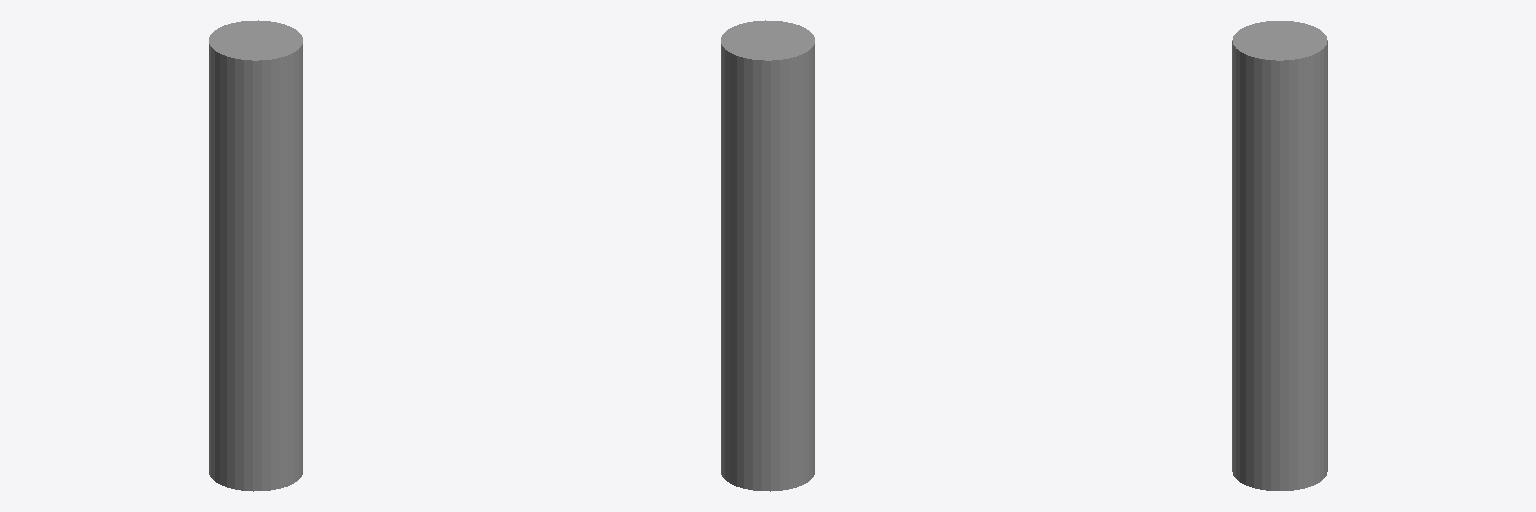
The robot description file, URDF, robot "cylinder":
<?xml version="1.0"?>
<robot name="cylinder">

  <material name="red">
    <color rgba="1.0 0.0 0.0 1.0"/>
  </material>
  <material name="grey">
    <color rgba="0.65 0.65 0.65 1.0"/>
    <texture filename="Wall_Albedo.jpg"/>
  </material>

  <link name="base_link">
    <collision>
      <geometry>
        <cylinder radius="0.5" length="5.0"/>
      </geometry>
    </collision>
    <inertial>
      <mass value="0.0002"/>
    	<inertia ixx="0.00016668" ixy="0.0" ixz="0.0" iyy="0.00016668" iyz="0.0" izz="0.00000002"/>
  	</inertial>
    <visual>
      <geometry>
        <cylinder radius="0.5" length="5.0"/>
      </geometry>
      <material name="grey"/>
    </visual>
  </link>

</robot>

--- Render facts (derived) ---
The picture shows the robot from 3 angles, left to right: view 1: azimuth 30°, elevation 25°; view 2: azimuth 150°, elevation 25°; view 3: azimuth 270°, elevation 25°; orthographic projection.
Robot: cylinder — 1 links, 0 joints (none); root link base_link; default pose: all joints at 0.
Visible links, largest first — view 1: base_link; view 2: base_link; view 3: base_link.
Boxes of the visible links, bbox=[...] form: base_link: bbox=[209, 20, 302, 491]; base_link: bbox=[721, 20, 814, 491]; base_link: bbox=[1232, 21, 1327, 490].
Size in the robot's own frame: 1 by 1 by 5 metres.
Geometry: primitives only (box / cylinder / sphere), no mesh files.